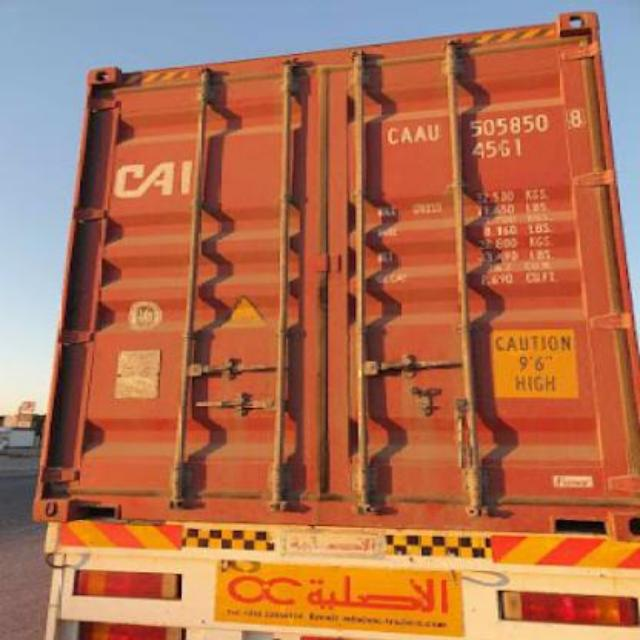0: (532, 108, 550, 132), (484, 116, 496, 140)
5: (466, 112, 479, 138), (494, 115, 508, 136), (522, 113, 534, 137)
8: (566, 108, 584, 128), (508, 115, 524, 136)
A: (398, 122, 414, 146), (412, 122, 426, 148)
C: (380, 124, 400, 146)
U: (426, 122, 439, 146)
